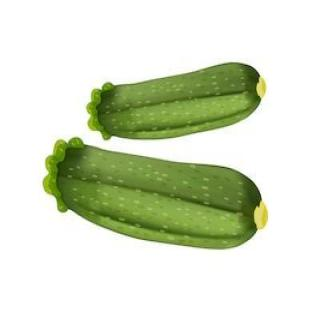Zucchini: (44, 138, 267, 248), (88, 63, 265, 139)
